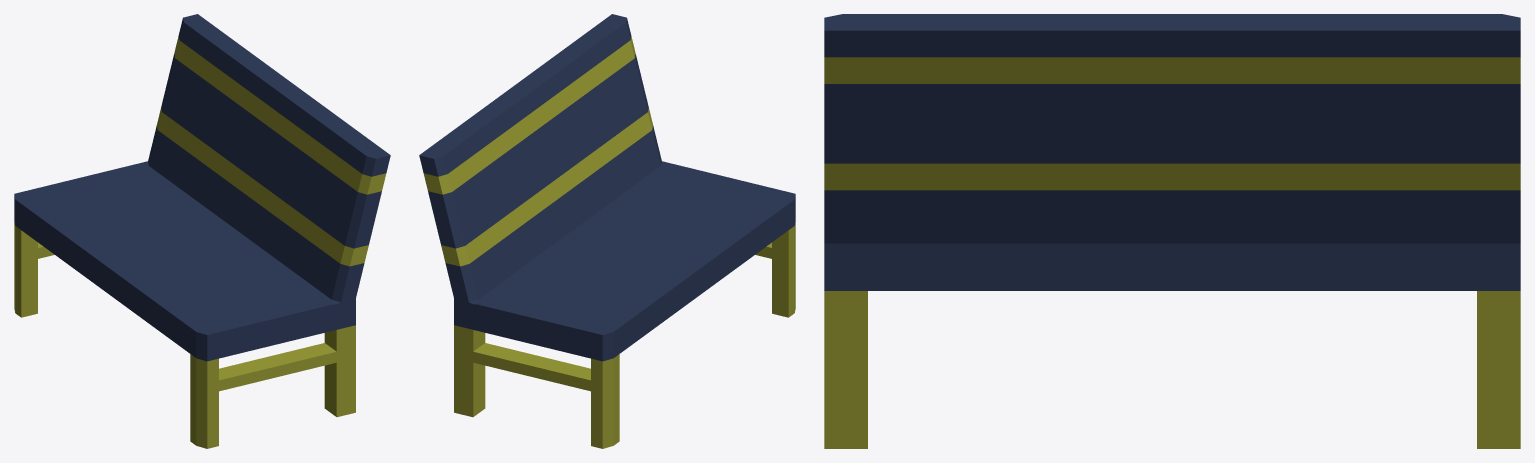
File: BenchModel01.fbx
3 renders of one model, left to right at view 1: azimuth 30°, elevation 25°; view 2: azimuth 150°, elevation 25°; view 3: azimuth 270°, elevation 25°, orthographic. The views are drawn at different scales.
Visible parts, largest first — view 1: Bench01; view 2: Bench01; view 3: Bench01.
Part boxes in pixels (<box>): Bench01: <box>14,14,390,448</box>; Bench01: <box>419,14,795,448</box>; Bench01: <box>824,14,1520,448</box>.
Size of the model in its own units: 100 by 126 by 177.
